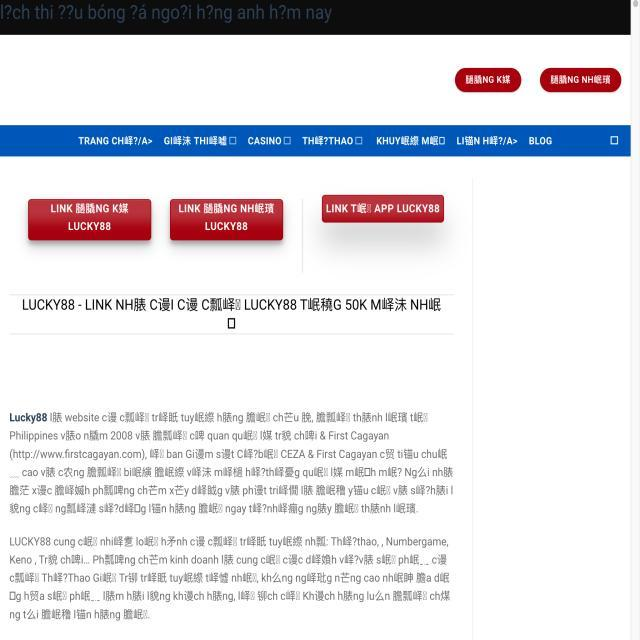button: (13, 199, 154, 239), (166, 196, 288, 240), (315, 193, 443, 227), (449, 58, 527, 96), (550, 61, 625, 98)
navigation bar: (33, 123, 580, 165)
text: (0, 387, 474, 640)
